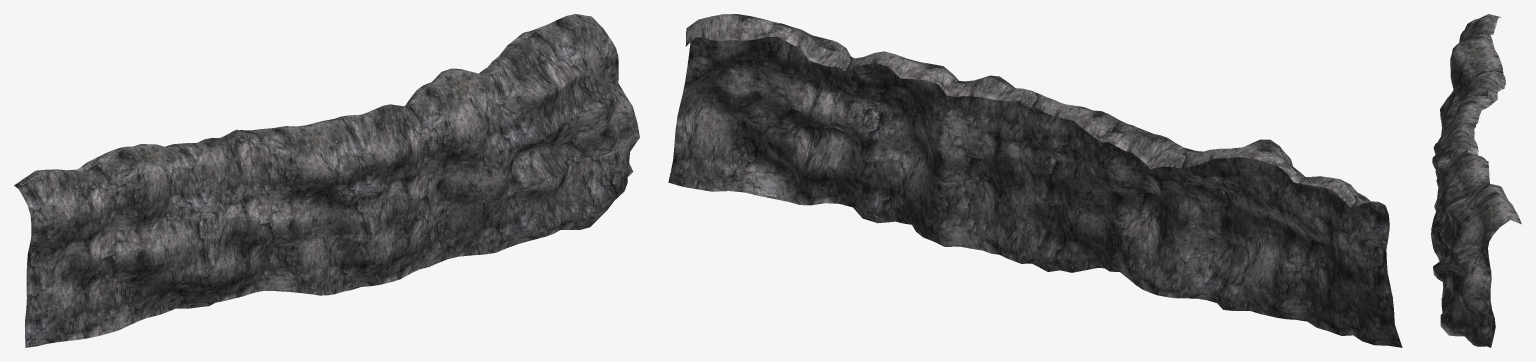
Rendered from Cliff_new.obj.
The picture shows the model from 3 angles, left to right: view 1: azimuth 30°, elevation 25°; view 2: azimuth 150°, elevation 25°; view 3: azimuth 270°, elevation 25°; orthographic projection. The views are drawn at different scales.
Visible parts, largest first — view 1: Cliff03LP; view 2: Cliff03LP; view 3: Cliff03LP.
Part boxes in pixels (<box>): Cliff03LP: <box>14,14,639,347</box>; Cliff03LP: <box>668,14,1402,347</box>; Cliff03LP: <box>1431,14,1521,347</box>.
Size of the model in its own units: 291 by 84.27 by 47.49.
Materials: 1 (1 with a texture image).
